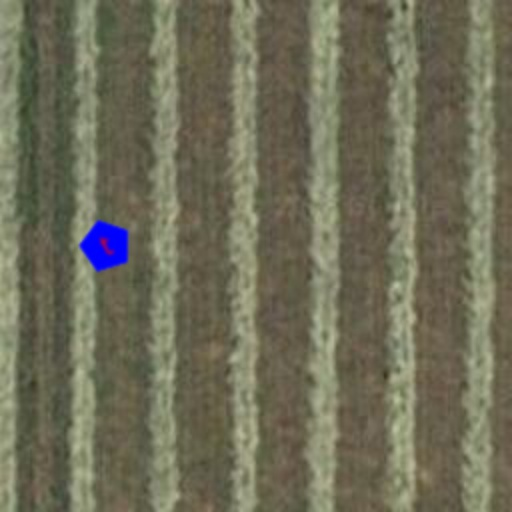pentagon: (66, 206, 146, 286)
